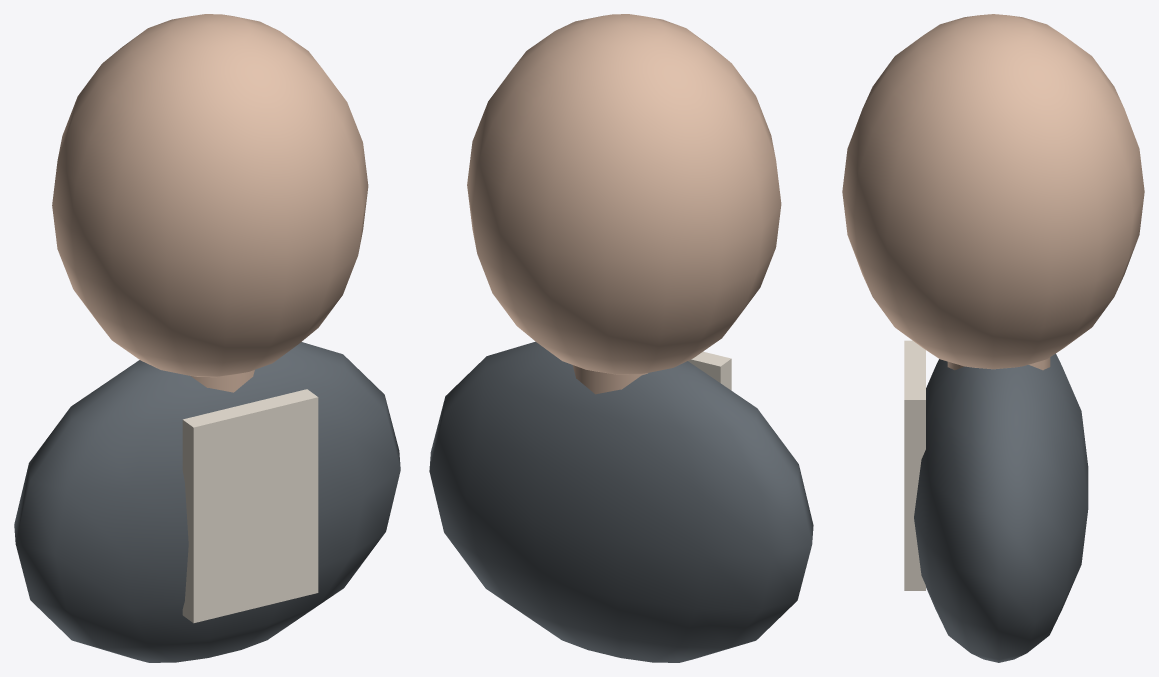
The model's file is avatar.glb.
3 renders of one model, left to right at view 1: azimuth 30°, elevation 25°; view 2: azimuth 150°, elevation 25°; view 3: azimuth 270°, elevation 25°, orthographic. The views are drawn at different scales.
Visible parts, largest first — view 1: AnalystHead, GraphiteJacket, ClayShirt, Neck; view 2: GraphiteJacket, AnalystHead, Neck, ClayShirt; view 3: AnalystHead, GraphiteJacket, ClayShirt.
Boxes of the visible parts, x1,y1,x2,y2 form: AnalystHead: (52,14,368,377); GraphiteJacket: (14,342,400,662); ClayShirt: (182,389,318,623); Neck: (191,370,254,392); GraphiteJacket: (429,341,813,662); AnalystHead: (467,14,781,374); Neck: (572,365,647,394); ClayShirt: (688,351,731,390); AnalystHead: (842,14,1144,369); GraphiteJacket: (914,353,1088,662); ClayShirt: (904,340,925,590).
Size of the model in its own units: 1.6 by 2.51 by 1.12.
